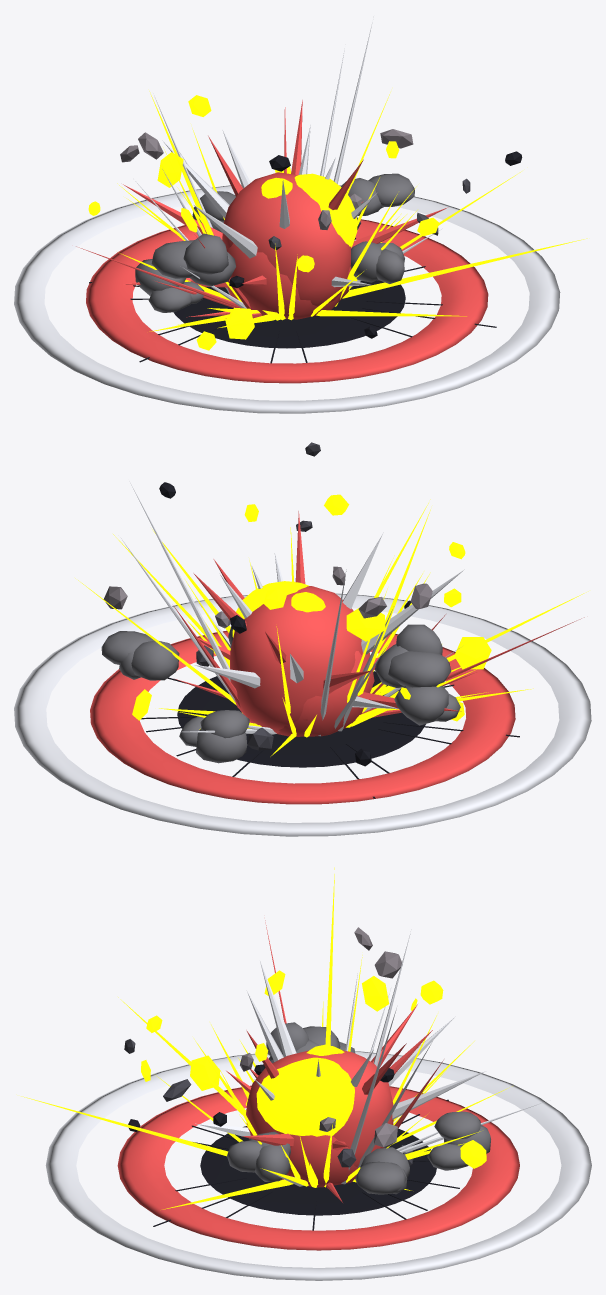
File: GravitySniper_Impact_exp.fbx
The picture shows the model from 3 angles, top to bottom: view 1: azimuth 30°, elevation 25°; view 2: azimuth 150°, elevation 25°; view 3: azimuth 270°, elevation 25°; orthographic projection. The views are drawn at different scales.
Parts seen in each view (by area): view 1: Imp_Onda_exp, Imp_Humo_exp, Imp_Chispas_exp, Imp_Flash_exp, Imp_Crater_exp, Imp_Escombros_exp; view 2: Imp_Onda_exp, Imp_Humo_exp, Imp_Chispas_exp, Imp_Flash_exp, Imp_Crater_exp, Imp_Escombros_exp; view 3: Imp_Onda_exp, Imp_Humo_exp, Imp_Chispas_exp, Imp_Crater_exp, Imp_Flash_exp, Imp_Escombros_exp.
Part boxes in pixels (x1,y1,x2,y2): Imp_Onda_exp: (14,185,560,413); Imp_Humo_exp: (135,172,414,312); Imp_Chispas_exp: (76,19,587,331); Imp_Flash_exp: (123,100,448,319); Imp_Crater_exp: (89,238,496,363); Imp_Escombros_exp: (88,95,522,350); Imp_Onda_exp: (14,593,591,836); Imp_Humo_exp: (101,581,460,763); Imp_Chispas_exp: (75,481,588,756); Imp_Flash_exp: (193,511,464,736); Imp_Crater_exp: (141,671,519,798); Imp_Escombros_exp: (103,442,491,766); Imp_Onda_exp: (45,1051,591,1280); Imp_Humo_exp: (227,1022,490,1194); Imp_Chispas_exp: (21,867,546,1209); Imp_Crater_exp: (153,1099,459,1230); Imp_Flash_exp: (195,961,485,1187); Imp_Escombros_exp: (124,927,486,1168).
Bounding box in the file's own units: 55.54 × 28.98 × 58.
